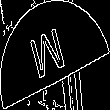M_S: (34, 23, 76, 87)
